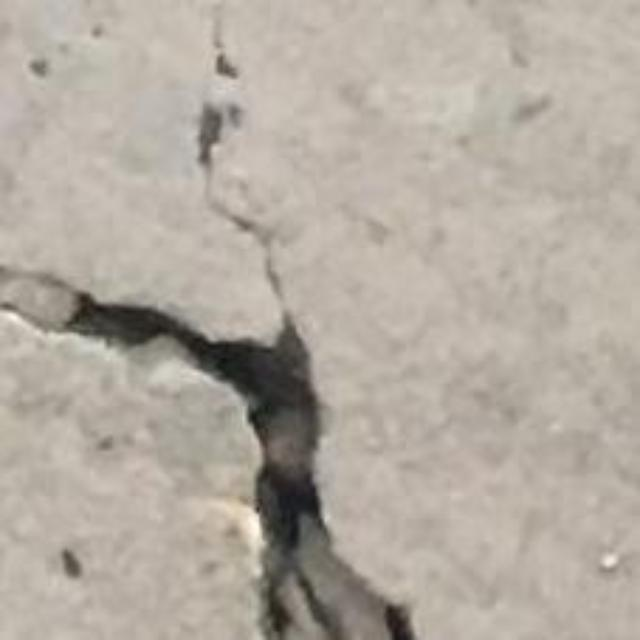crack: (0, 268, 417, 639)
